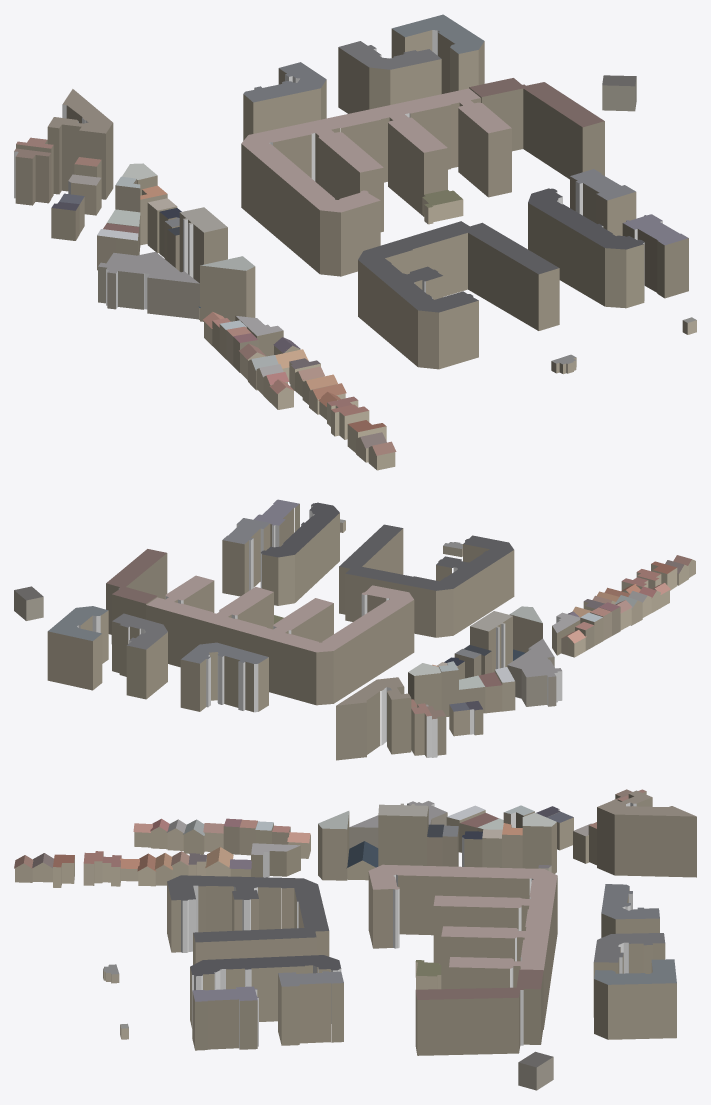
3 views of the same model, one above another, from view 1: azimuth 30°, elevation 25°; view 2: azimuth 150°, elevation 25°; view 3: azimuth 270°, elevation 25° (orthographic). The views are drawn at different scales.
Parts seen in each view (by area): view 1: tuile; view 2: tuile; view 3: tuile.
Part boxes in pixels (x1,y1,x2,y2): tuile: [14, 14, 696, 470]; tuile: [14, 499, 695, 760]; tuile: [14, 789, 696, 1090].
Size of the model in its own units: 254 by 38.63 by 273.
